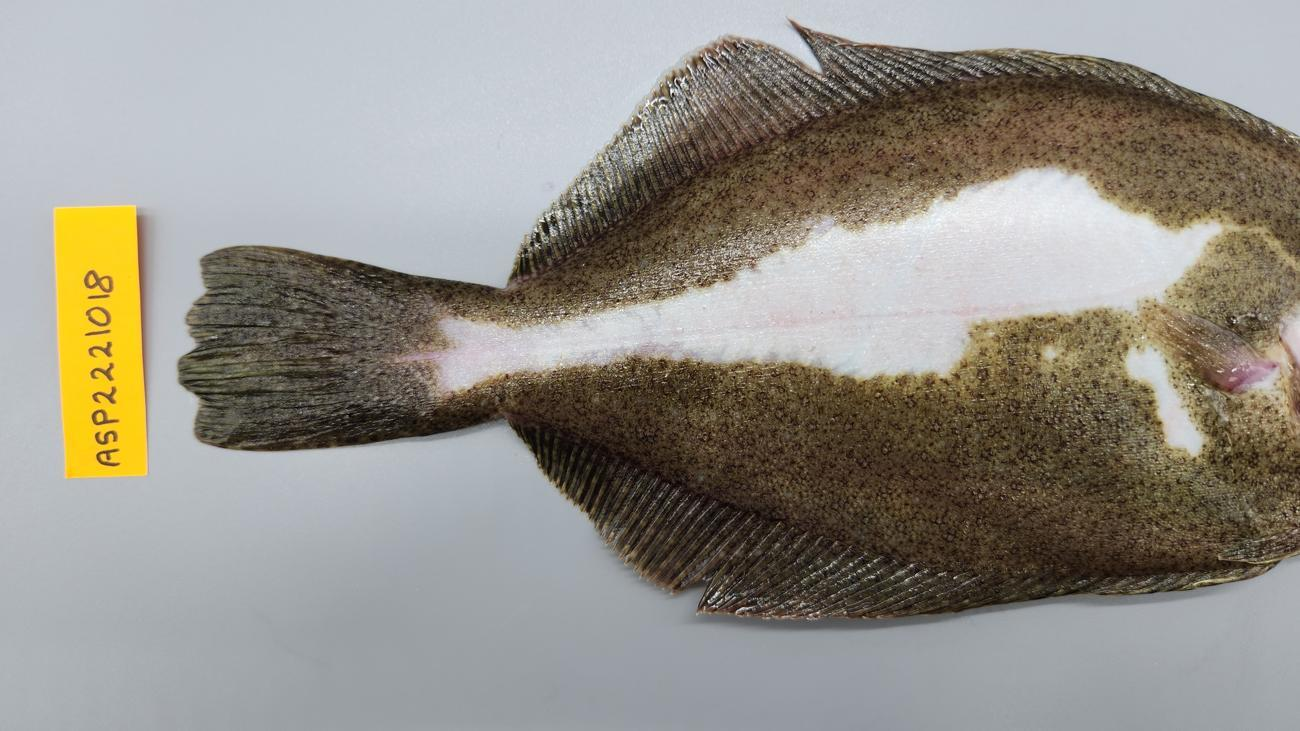SPDYH: (510, 380, 1259, 571), (624, 215, 1002, 374), (378, 292, 518, 415), (1164, 311, 1286, 400)
SPFCH: (183, 251, 394, 449)
